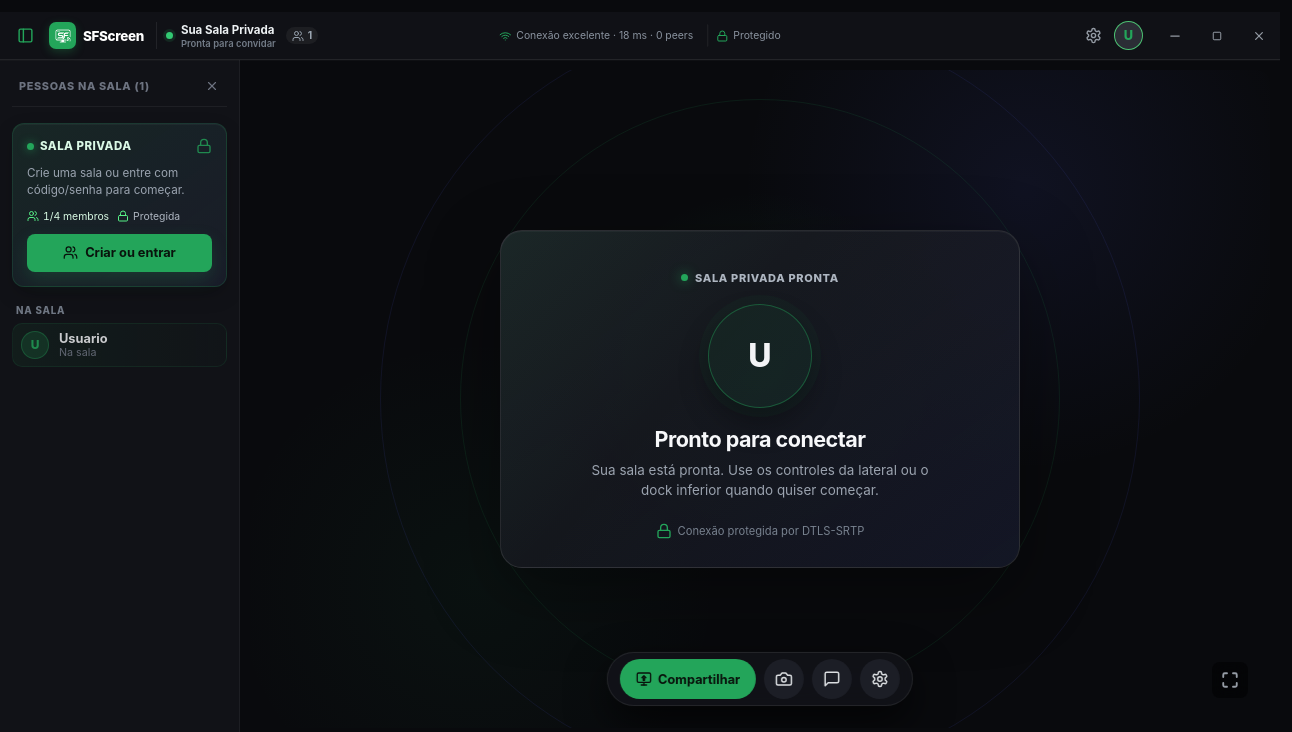
SFScreen Discord layout › collapses and expands the sidebar with toggle button
The width and height of the screenshot is (1292, 732).
Expected: the text "Pessoas na sala (1)" is shown, x1=15 y1=79 x2=154 y2=93
# Click toggle button to collapse
Click the button named "recolher barra lateral" next to "SFScreen".
click(25, 36)  # box x1=10 y1=20 x2=40 y2=50
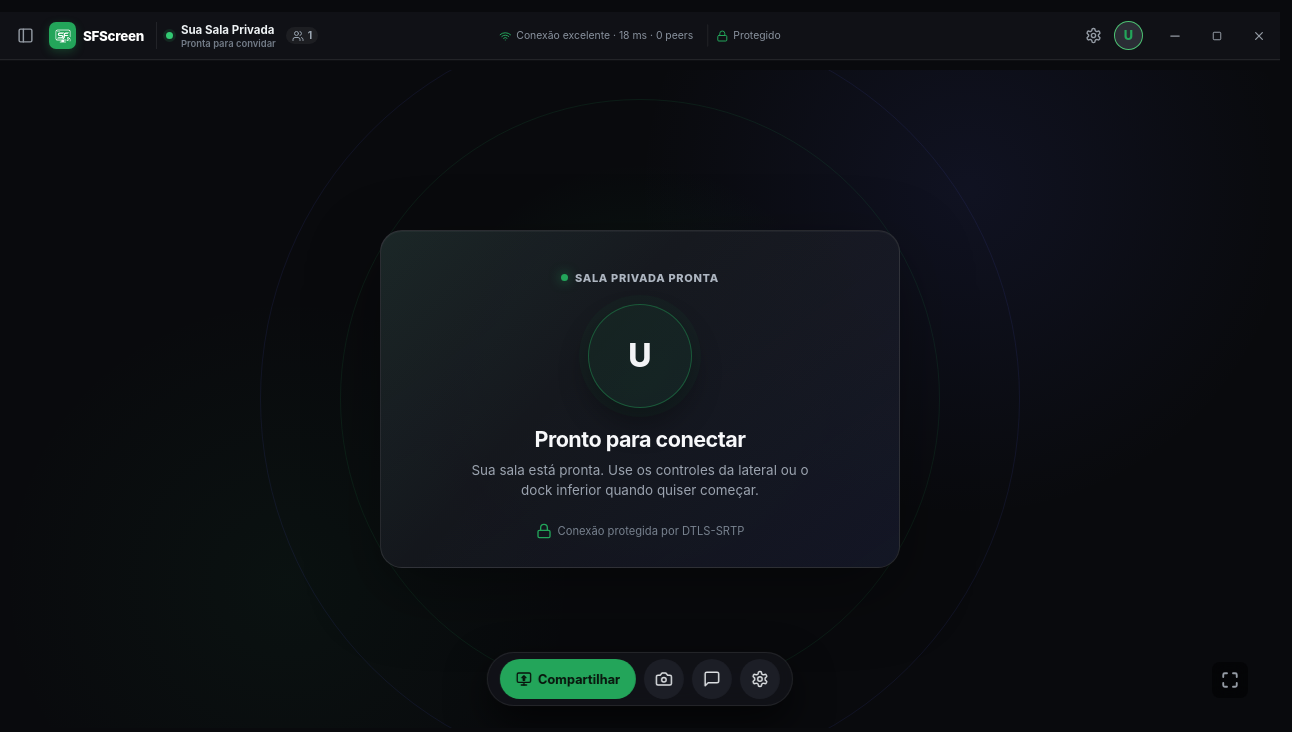
Now the text "Pessoas na sala (1)" is gone
# Click toggle button again to expand
Click the button named "expandir barra lateral".
click(25, 36)  # box x1=10 y1=20 x2=40 y2=50
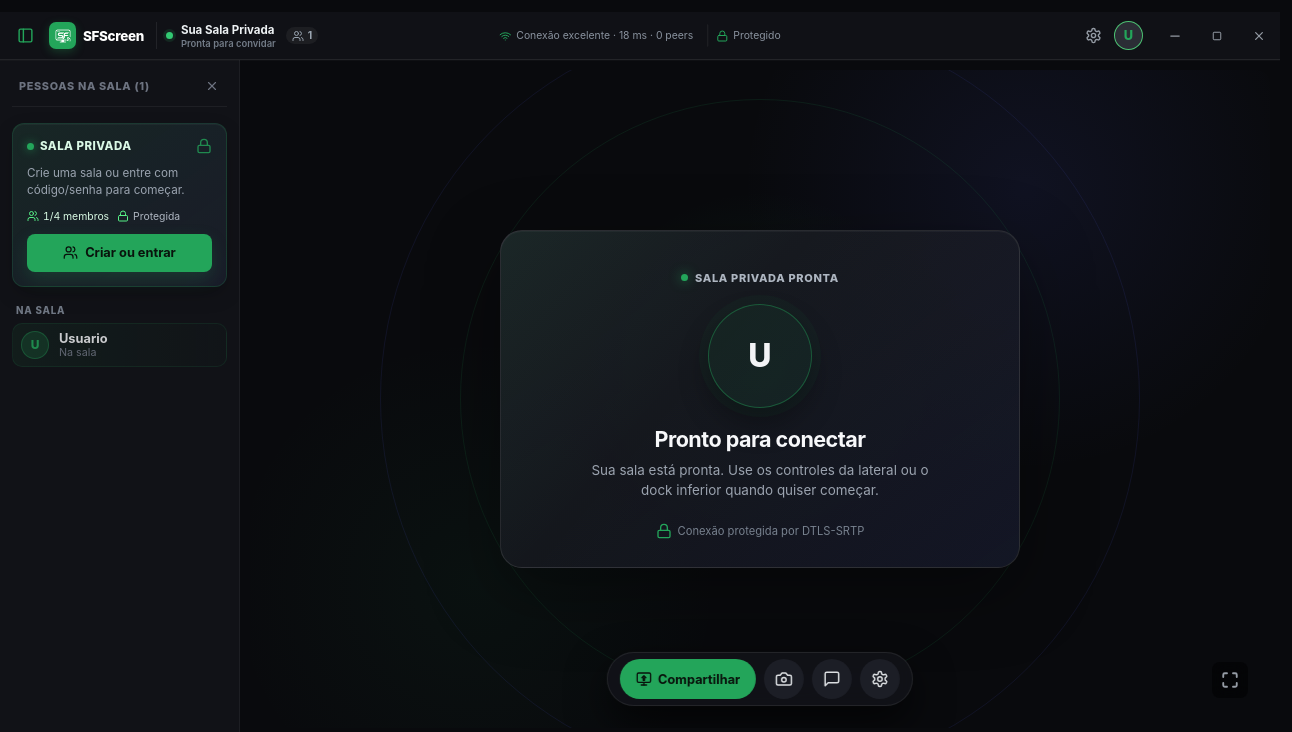
Now the text "Pessoas na sala (1)" is shown, box x1=15 y1=79 x2=154 y2=93
